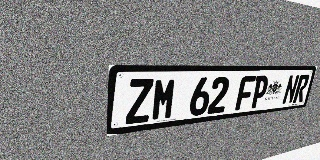2: (207, 76, 230, 114)
6: (188, 77, 213, 116)
F: (235, 76, 256, 111)
M: (151, 78, 177, 121)
N: (282, 75, 300, 105)
P: (249, 75, 270, 109)
R: (292, 74, 310, 103)
Z: (125, 78, 154, 125)
